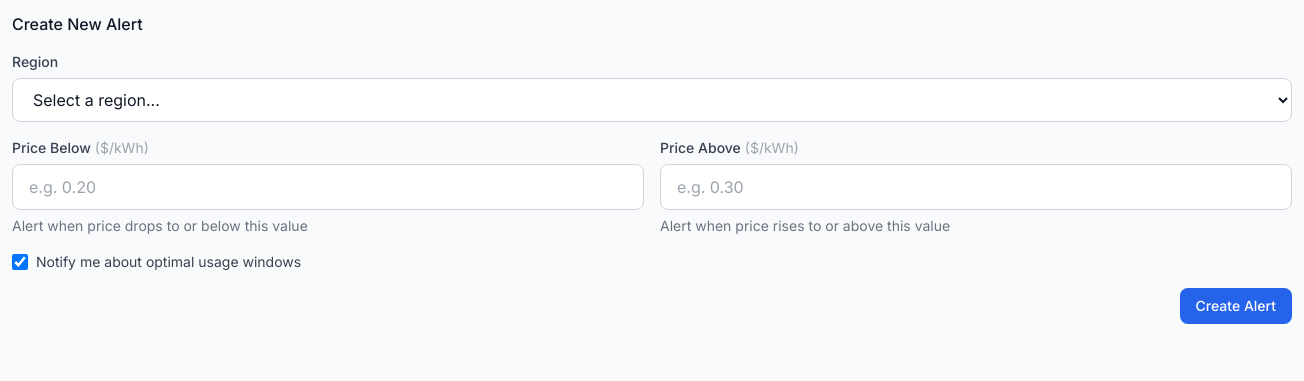
it: AlertForm › validation › shows 'Please select a region' error when no region is selected
Click the button with test id "submit-alert": (1236, 306) [1180, 288, 1292, 324]
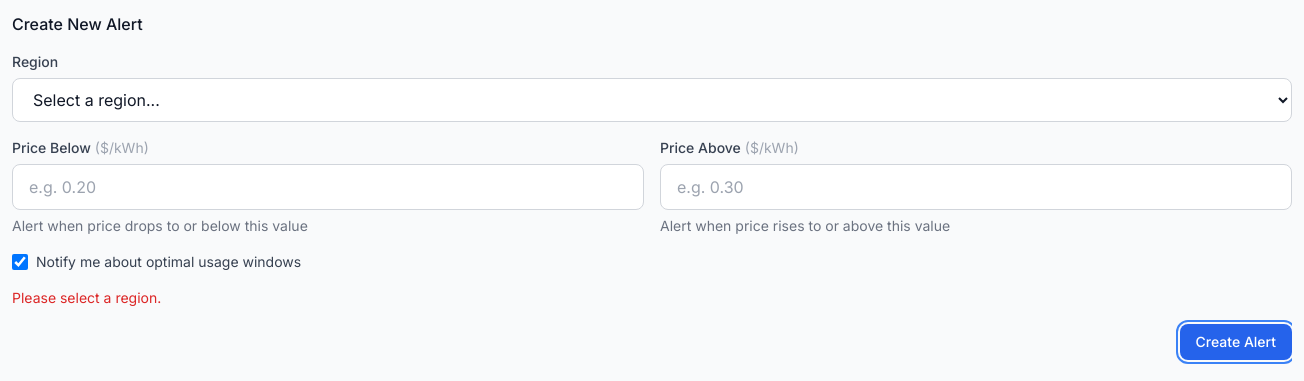
Result: the message with test id "form-error" reads "Please select a region." at [12, 289, 161, 306]
